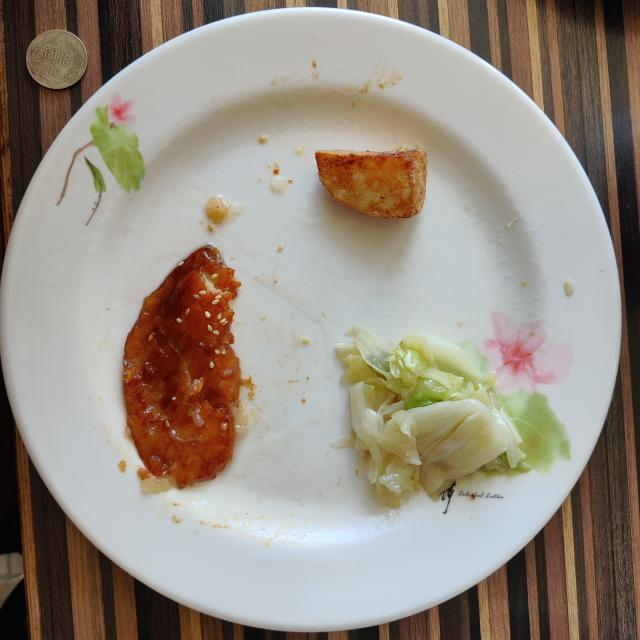Kabayaki sea bream fillet: (124, 245, 241, 488)
cabbage: (331, 326, 530, 508)
coin: (26, 30, 88, 89)
fried potato: (315, 150, 428, 219)
